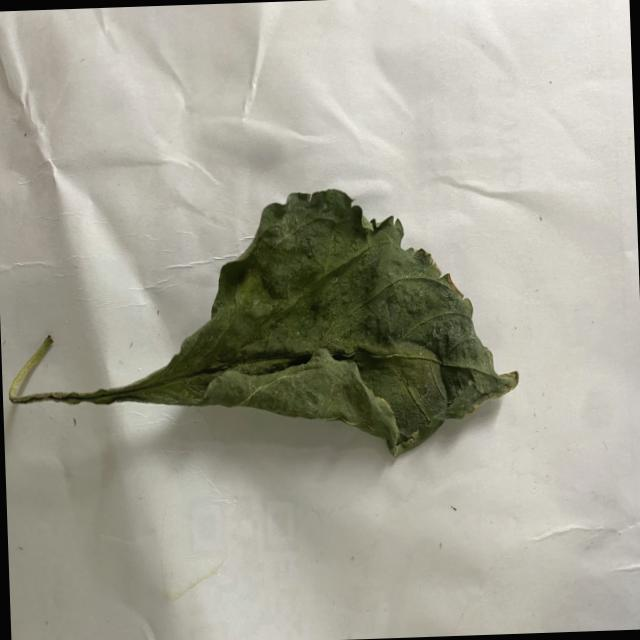Leaf: (130, 181, 523, 472)
